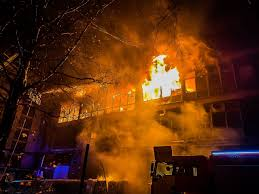fire: (97, 50, 210, 106)
